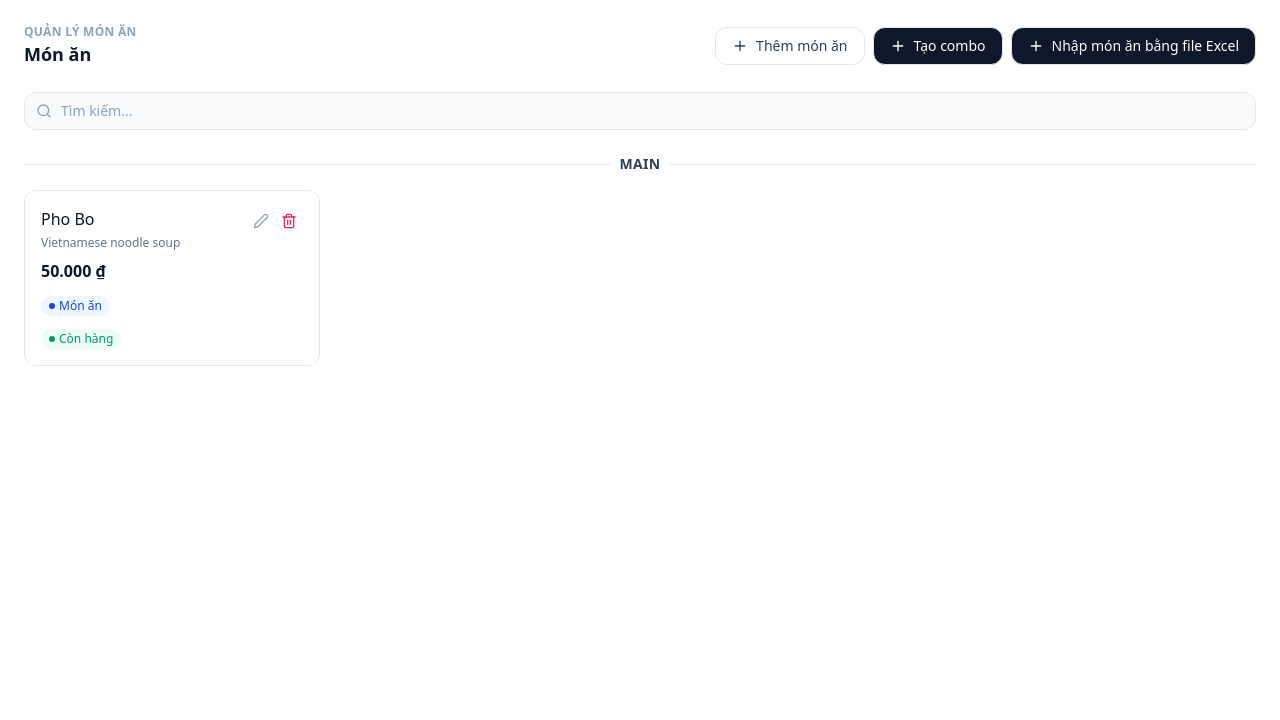
Test: Integration: Tenant Dish Flow › deletes a dish after confirmation
Expected: the heading "Pho Bo" is shown, [41,208,94,230]
Click the button titled "Xóa món ăn".
click(289, 221)  # box [275,207,303,235]
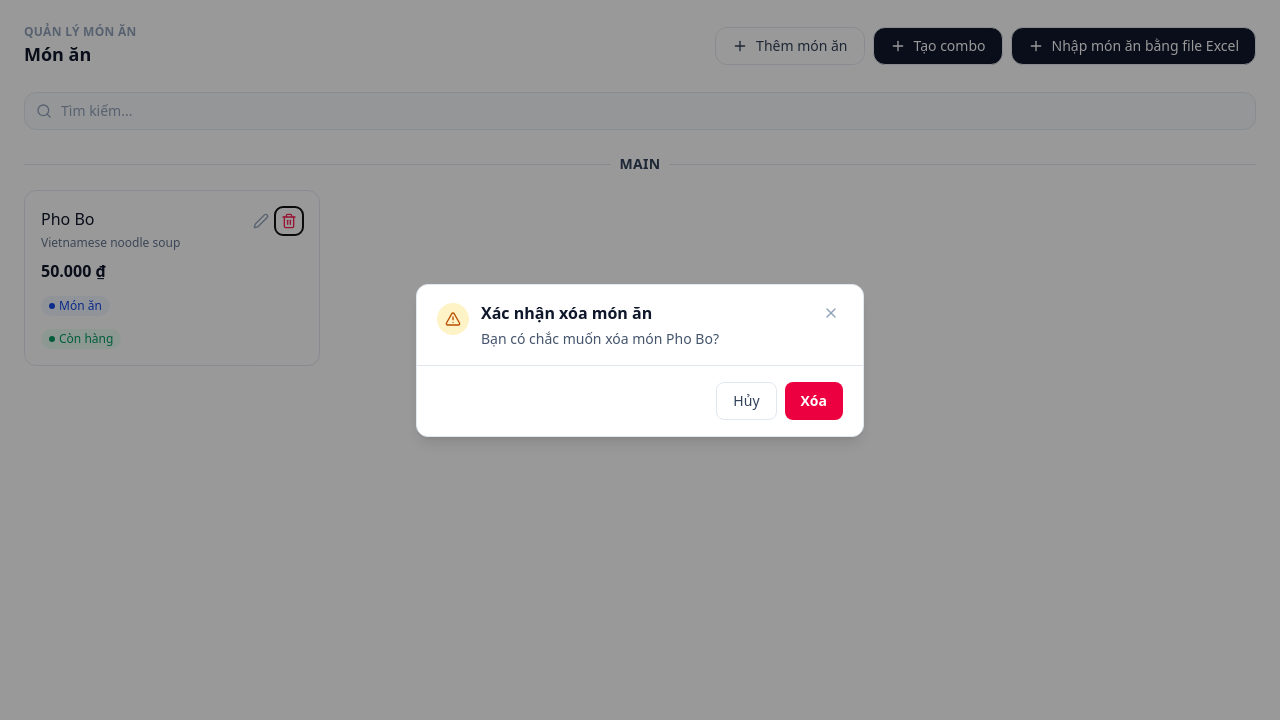
Expected: the heading "Xác nhận xóa món ăn" is shown, [481,302,652,324]
Click the button "Xóa".
click(814, 400)  # box [784,382,843,420]
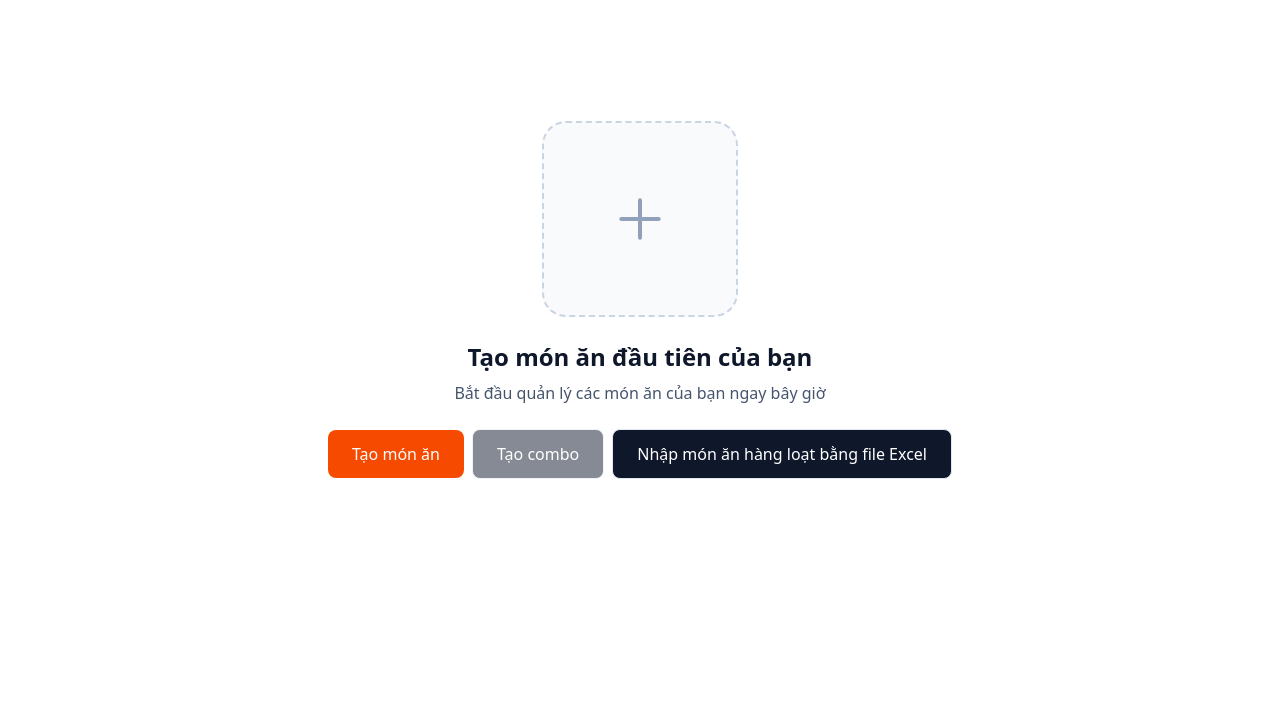
Expected: the heading "Pho Bo" is gone
